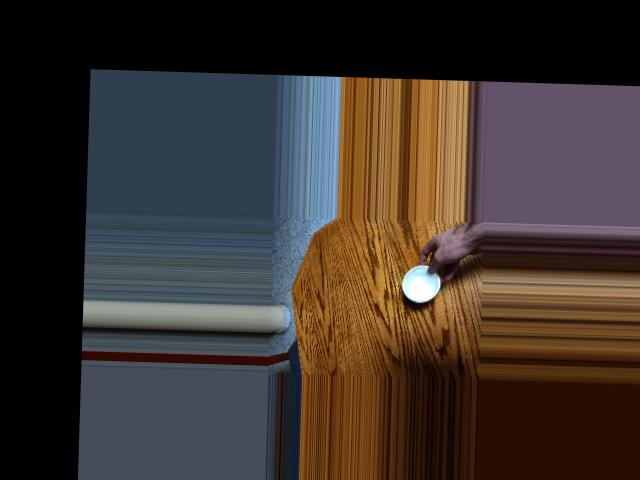cotage: (402, 263, 443, 303)
